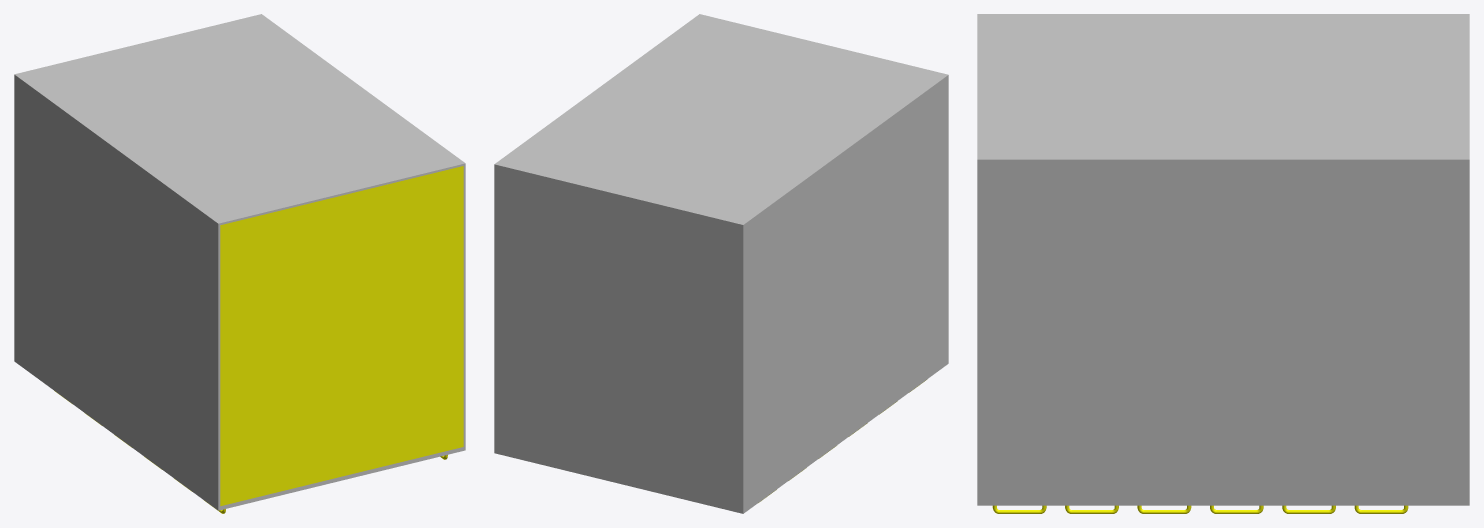
File: sm_hana_pava_amp_rack.glb
3 views of the same model, side by side, from view 1: azimuth 30°, elevation 25°; view 2: azimuth 150°, elevation 25°; view 3: azimuth 270°, elevation 25° (orthographic). The views are drawn at different scales.
Parts seen in each view (by area): view 1: sm_color_common, sm_hana_pava_amp_rack; view 2: sm_color_common; view 3: sm_color_common, sm_hana_pava_amp_rack.
Boxes of the visible parts, x1=… form: sm_color_common: x1=14, y1=14, x2=465, y2=510; sm_hana_pava_amp_rack: x1=55, y1=166, x2=463, y2=513; sm_color_common: x1=494, y1=14, x2=948, y2=513; sm_color_common: x1=977, y1=14, x2=1469, y2=505; sm_hana_pava_amp_rack: x1=992, y1=505, x2=1408, y2=513.
Bounding box in the file's own units: 0.8301 × 0.9608 × 1.19.
Materials: 2 (1 with a texture image).
